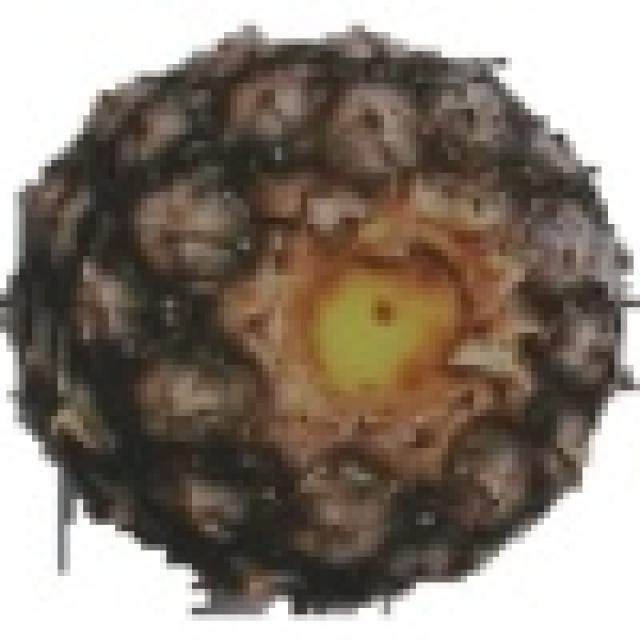pineapple: (26, 19, 634, 595)
